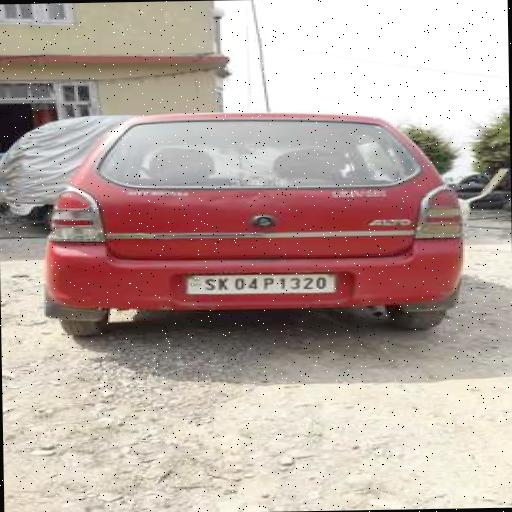license_plate`: (185, 272, 332, 294)
